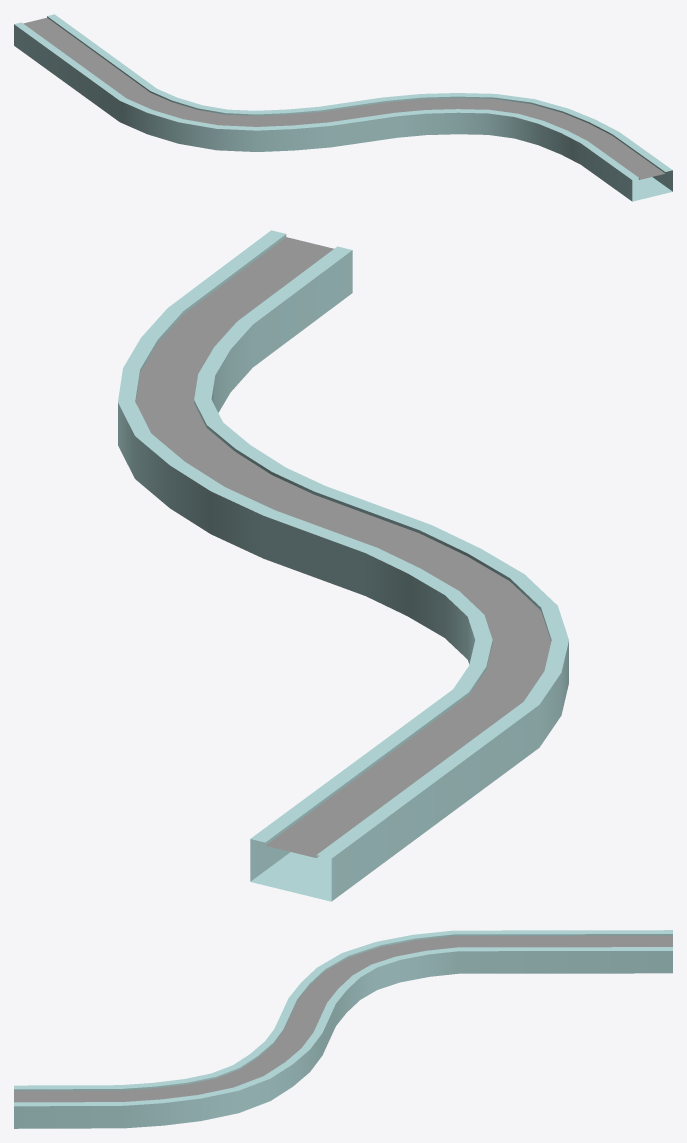
The model's file is curve_leftt#2.fbx.
3 views of the same model, one above another, from view 1: azimuth 30°, elevation 25°; view 2: azimuth 150°, elevation 25°; view 3: azimuth 270°, elevation 25° (orthographic). The views are drawn at different scales.
Parts seen in each view (by area): view 1: Cube.059; view 2: Cube.059; view 3: Cube.059.
Boxes of the visible parts, x1=… form: Cube.059: x1=14, y1=14, x2=672, y2=201; Cube.059: x1=118, y1=230, x2=568, y2=901; Cube.059: x1=14, y1=930, x2=672, y2=1128.
Size of the model in its own units: 1723 by 103 by 2724.
